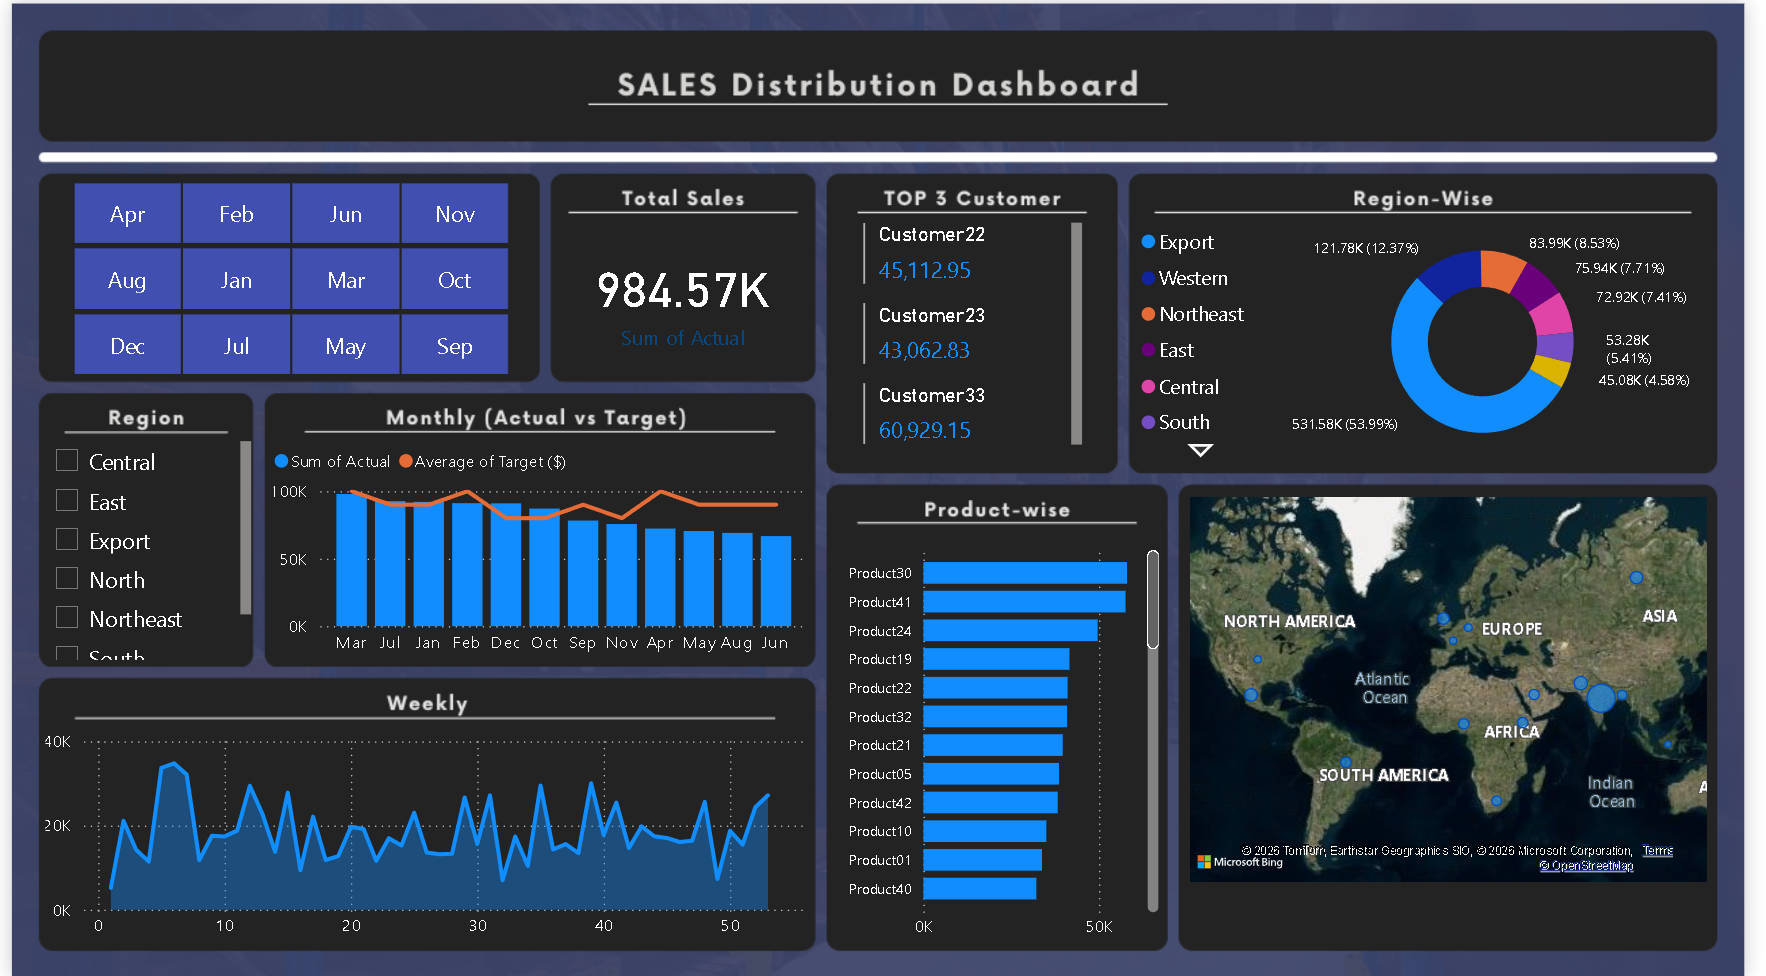

This screenshot's page, from the dashboard's own definition file:
{"tool":"powerbi","page":{"name":"Page 1","canvas":[1280,720],"ordinal":0},"visuals":[{"type":"slicer","fields":{"Values":["InputData.Month Name"]},"box":[20,125.3,370.7,155.3],"z":0},{"type":"card","fields":{"Values":["Sum(InputData.Actual)"]},"box":[398.7,157.3,194.7,123.3],"z":1000},{"type":"slicer","fields":{"Values":["Country.Region"]},"box":[20,318.3,161.7,171.7],"z":2000},{"type":"lineStackedColumnComboChart","fields":{"Category":["TargetData.Month Name"],"Y":["Sum(InputData.Actual)"],"Y2":["Avg(TargetData.Target ($))"]},"box":[188.3,318.3,404.2,171.7],"z":3000},{"type":"areaChart","fields":{"Category":["InputData.Week of Year"],"Y":["Sum(InputData.Actual)"]},"box":[20,531.7,572.5,168.3],"z":4000},{"type":"multiRowCard","fields":{"Values":["Country.Customer Name","Sum(InputData.Actual)"]},"box":[624,157.3,171.3,186],"z":5000},{"type":"clusteredBarChart","fields":{"Category":["InputData.PRODUCT"],"Y":["Sum(InputData.Actual)"]},"box":[605,390.8,246.7,309.2],"z":6000},{"type":"donutChart","fields":{"Category":["Country.Region"],"Y":["Sum(InputData.Actual)"]},"box":[828.3,157.5,428.3,185.8],"z":7000},{"type":"map","fields":{"Category":["Country.Country"],"Size":["Sum(InputData.Actual)"]},"box":[865,360,391.7,331.7],"z":8000}]}

Visuals, with their boxes in screenshot pixels (x1, y1, x2, y2), scaled from the page's 1280x720 canvas onto the 1766x976 screenshot:
slicer - InputData.Month Name: {"x1": 28, "y1": 170, "x2": 539, "y2": 380}
card - Sum(InputData.Actual): {"x1": 550, "y1": 213, "x2": 819, "y2": 380}
slicer - Country.Region: {"x1": 28, "y1": 431, "x2": 251, "y2": 664}
lineStackedColumnComboChart - TargetData.Month Name x Sum(InputData.Actual): {"x1": 260, "y1": 431, "x2": 817, "y2": 664}
areaChart - InputData.Week of Year x Sum(InputData.Actual): {"x1": 28, "y1": 721, "x2": 817, "y2": 949}
multiRowCard - Country.Customer Name x Sum(InputData.Actual): {"x1": 861, "y1": 213, "x2": 1097, "y2": 465}
clusteredBarChart - InputData.PRODUCT x Sum(InputData.Actual): {"x1": 835, "y1": 530, "x2": 1175, "y2": 949}
donutChart - Country.Region x Sum(InputData.Actual): {"x1": 1143, "y1": 214, "x2": 1734, "y2": 465}
map - Country.Country x Sum(InputData.Actual): {"x1": 1193, "y1": 488, "x2": 1734, "y2": 938}
